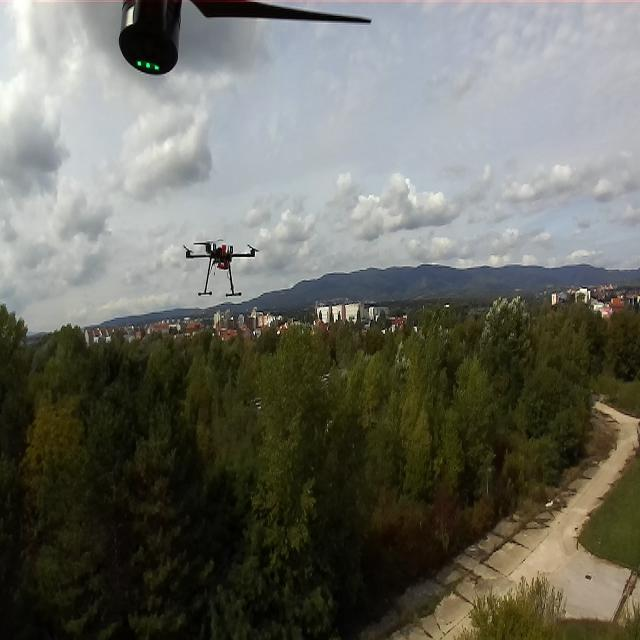UAV: (175, 230, 268, 300)
